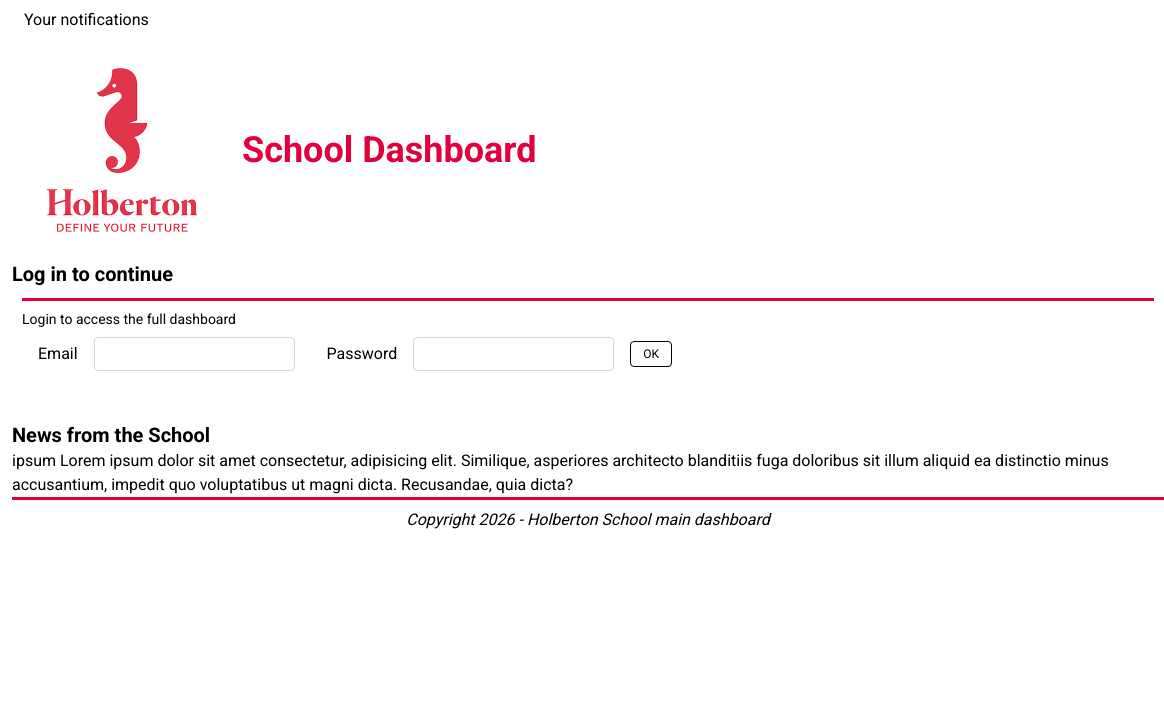
Test: App - login / logout flow (state changes) › returns to Login form after Ctrl+H logout (state change)
Type "test@example.com" into the field labelled "Email" at point(194, 354), box [94, 337, 295, 371]
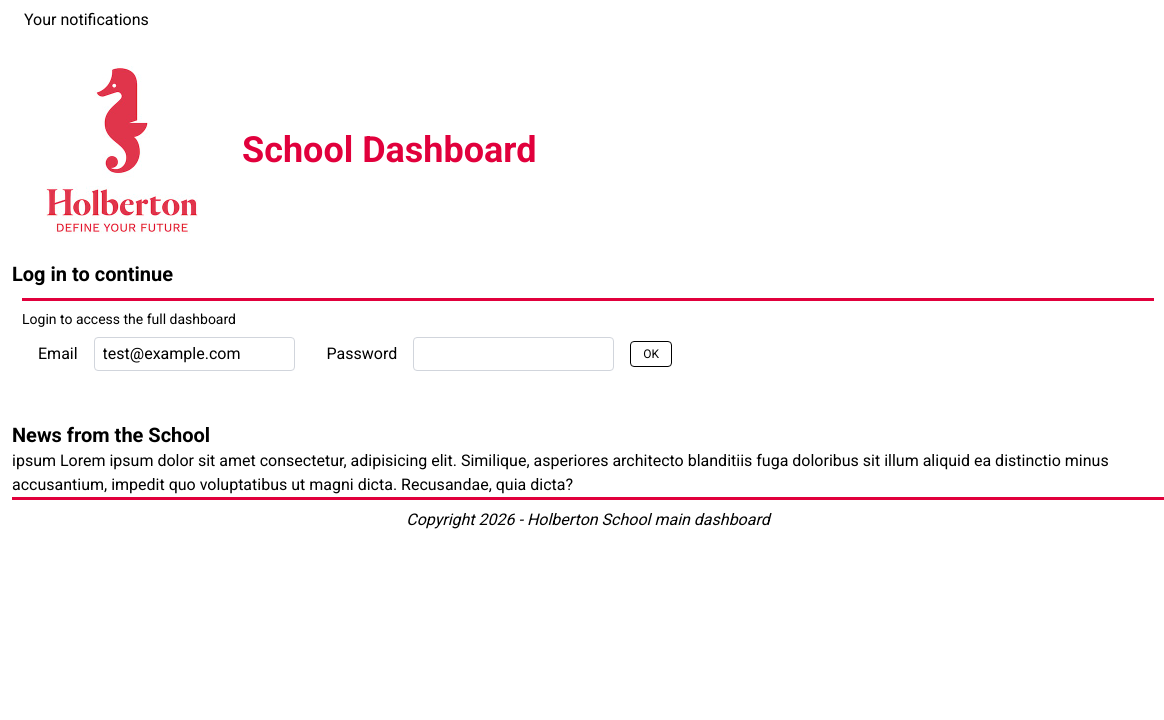
Type "password123" into the password field labelled "Password" at point(514, 354), box [413, 337, 614, 371]
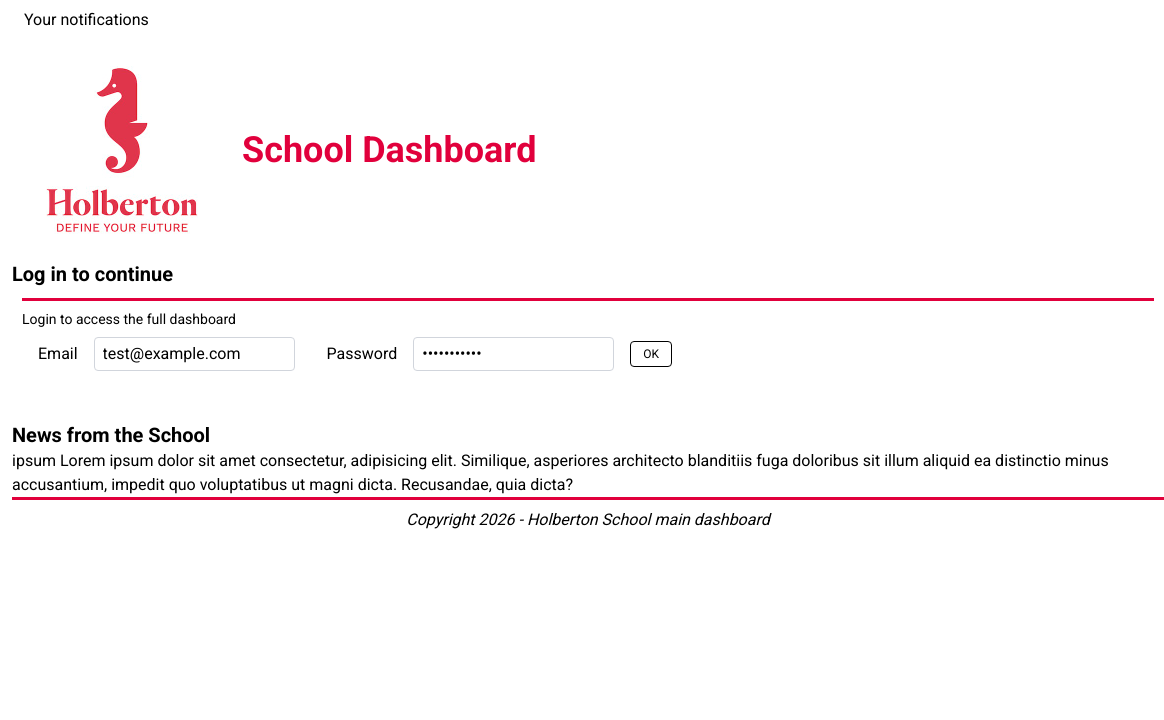
Click the button "OK" at point(651, 354), box [630, 341, 672, 367]
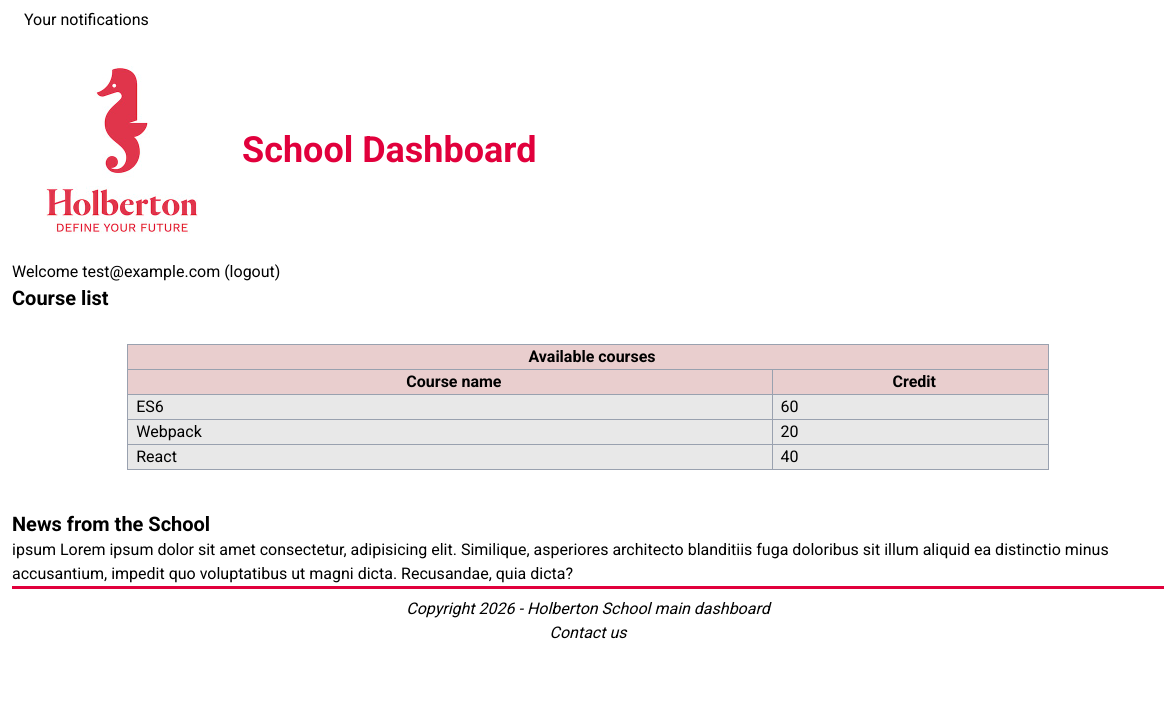
Press h
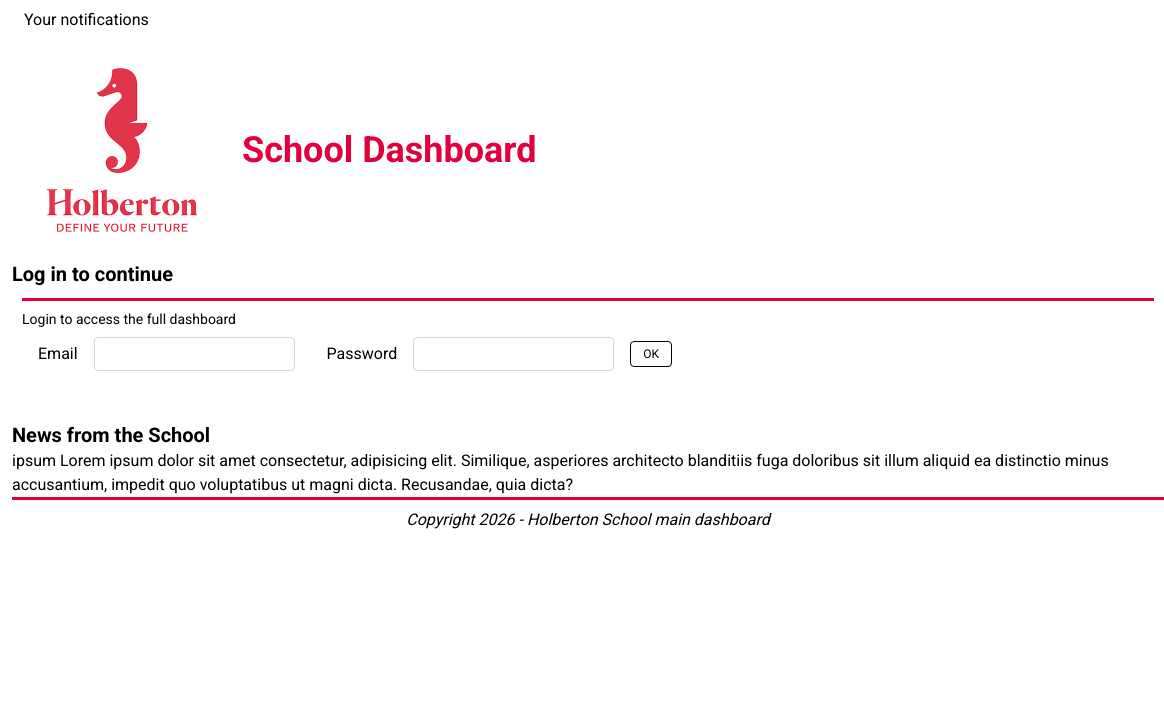
Expected: the field labelled "Email" is shown, [94, 337, 295, 371]
Expected: the element with id "logoutSection" is gone
